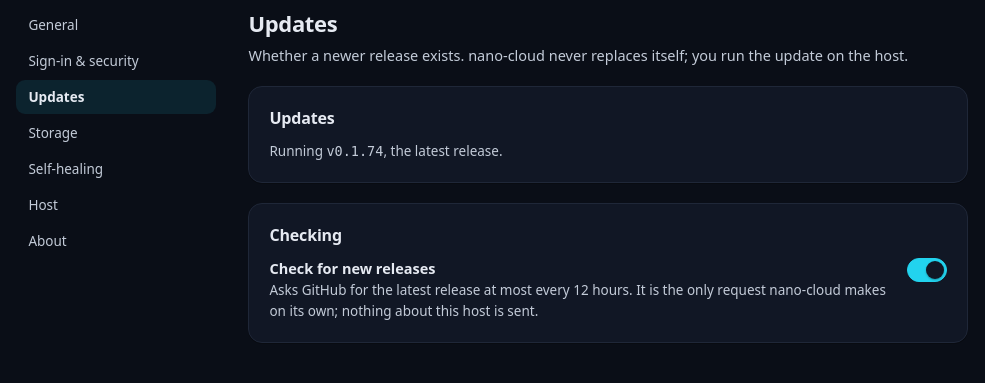
Scenario: SettingsPage › says why a switch did not change, beside it
Click the switch named "Check for new releases". click: {"x": 927, "y": 270}
box: 907,258 -> 947,282
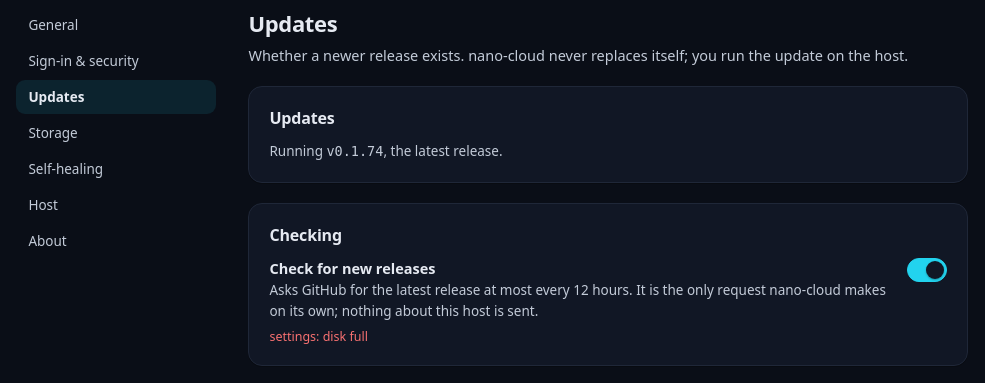
Result: the message shows "disk full" at 269,328 -> 368,345
